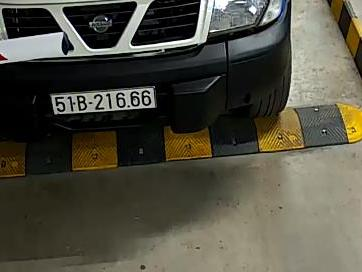number: (50, 87, 157, 112)
